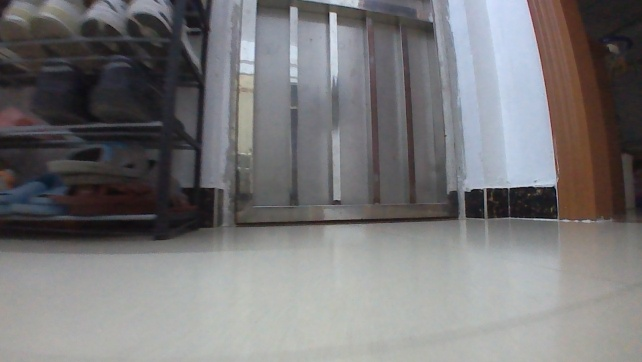door_anno: (229, 0, 458, 223)
